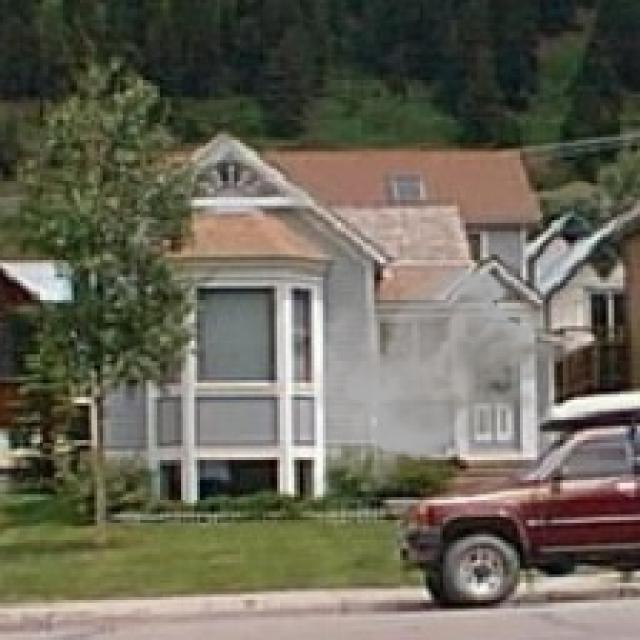smoke: (306, 260, 586, 494)
